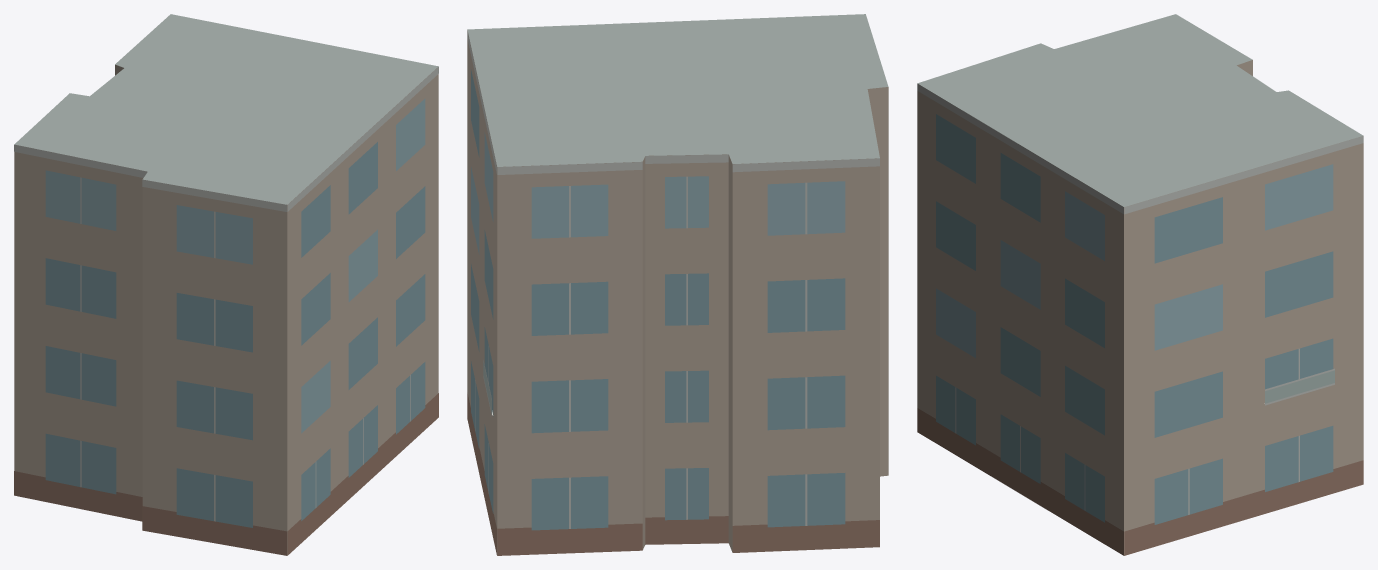
File: survey-upis-32709380.glb
3 renders of one model, left to right at view 1: azimuth 30°, elevation 25°; view 2: azimuth 150°, elevation 25°; view 3: azimuth 270°, elevation 25°, orthographic. The views are drawn at different scales.
Parts seen in each view (by area): view 1: survey-upis-32709380.tmp; view 2: survey-upis-32709380.tmp; view 3: survey-upis-32709380.tmp.
Part boxes in pixels (x1,y1,x2,y2): survey-upis-32709380.tmp: [14, 14, 438, 555]; survey-upis-32709380.tmp: [467, 14, 888, 555]; survey-upis-32709380.tmp: [917, 14, 1363, 555].
Bounding box in the file's own units: 13.91 × 11.7 × 13.58.
